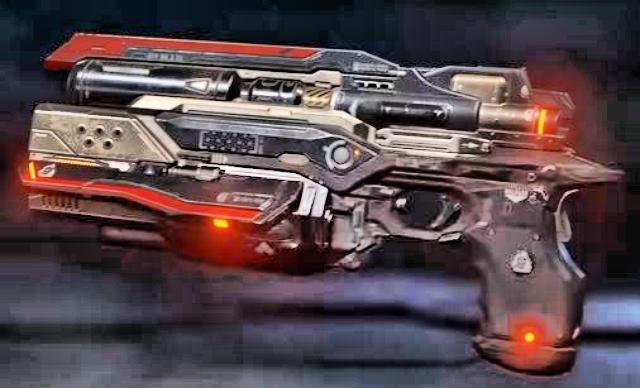pistol: (32, 19, 608, 373)
